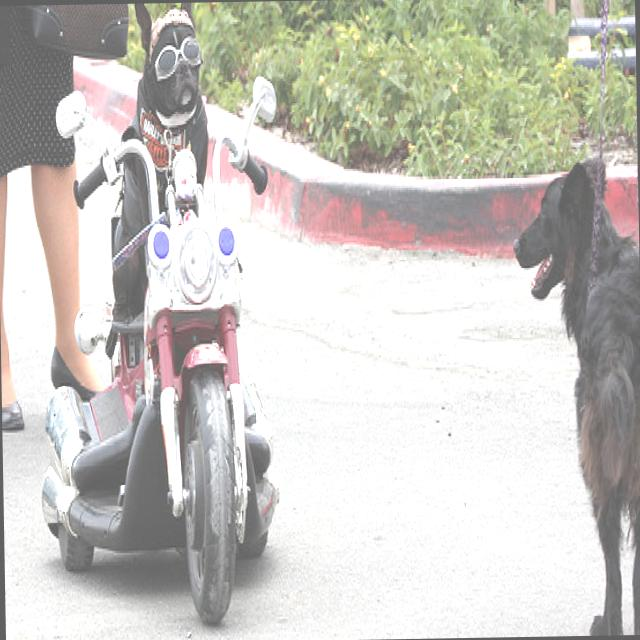Vehicle: (37, 78, 293, 634)
